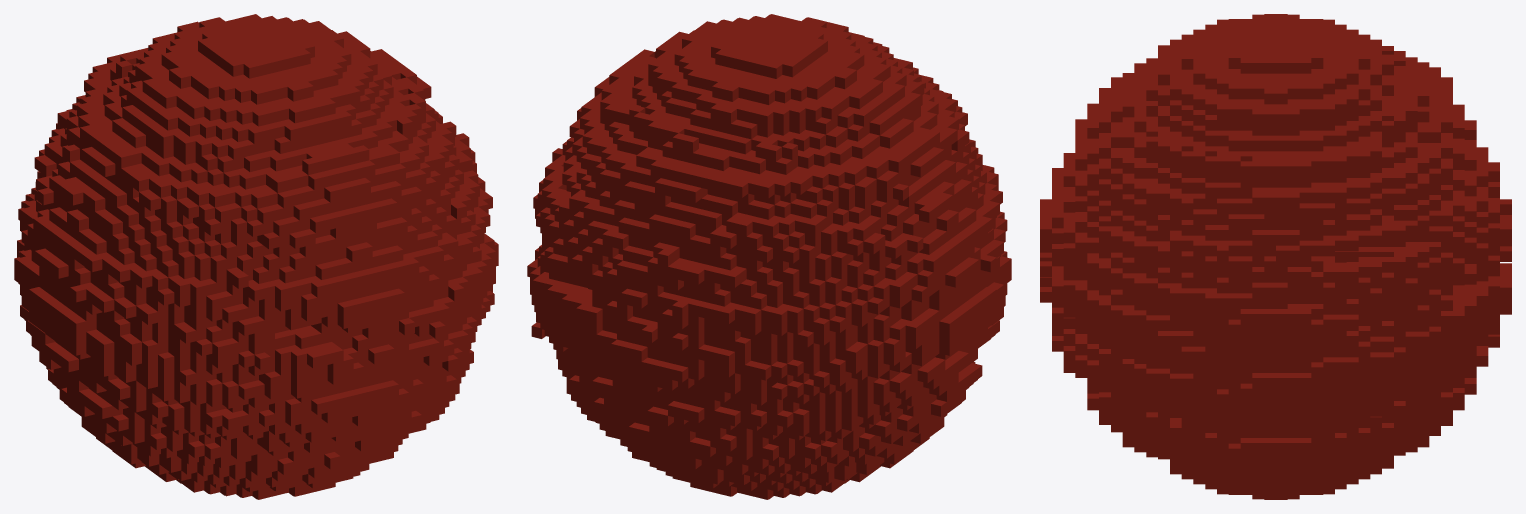
The model's file is Anas_Marrons#82190e.dae.
3 views of the same model, side by side, from view 1: azimuth 30°, elevation 25°; view 2: azimuth 150°, elevation 25°; view 3: azimuth 270°, elevation 25° (orthographic).
Visible parts, largest first — view 1: Anas_Marrons#82190e-obj.vox; view 2: Anas_Marrons#82190e-obj.vox; view 3: Anas_Marrons#82190e-obj.vox.
Boxes of the visible parts, x1,y1,x2,y2 form: Anas_Marrons#82190e-obj.vox: (14, 14, 498, 499); Anas_Marrons#82190e-obj.vox: (527, 14, 1011, 499); Anas_Marrons#82190e-obj.vox: (1040, 14, 1511, 499).
Size of the model in its own units: 4 by 4 by 4.
